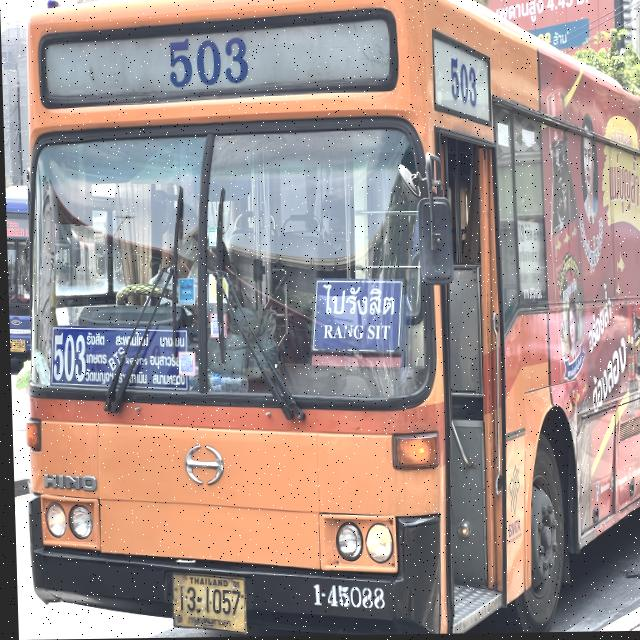BMTA-bus: (12, 0, 640, 640)
Bus-Line-Number: (157, 25, 256, 96)
Destination-Sign-Normal: (309, 273, 401, 354)
